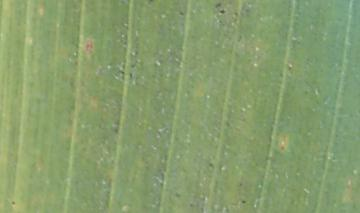tarspot: (217, 8, 226, 15), (208, 161, 214, 168), (179, 10, 185, 17), (215, 2, 223, 7), (11, 199, 16, 206), (241, 199, 247, 204)
